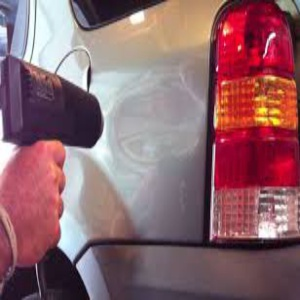bumper_scratch: (106, 65, 206, 177)
